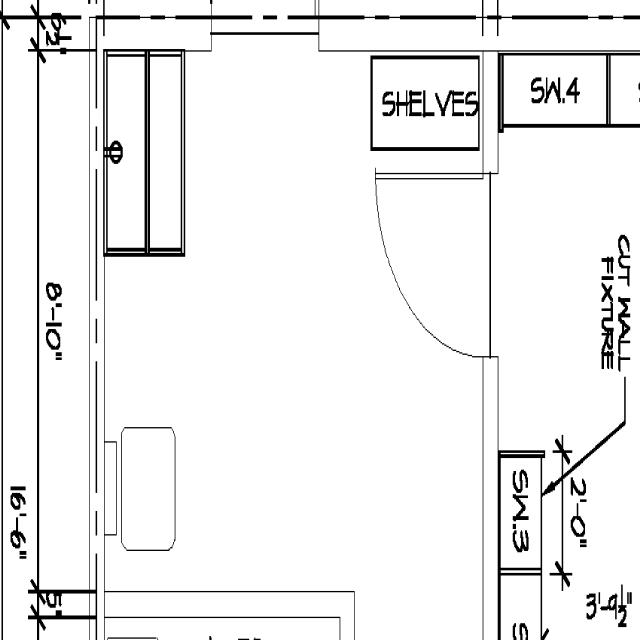Doors: (374, 168, 499, 365)
